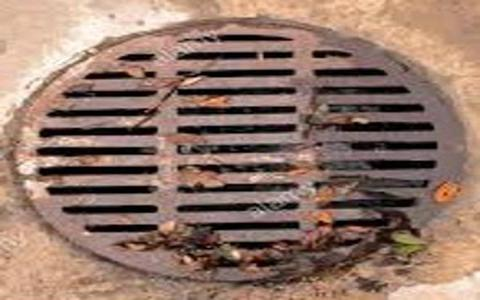proper manhole: (14, 9, 472, 277)
